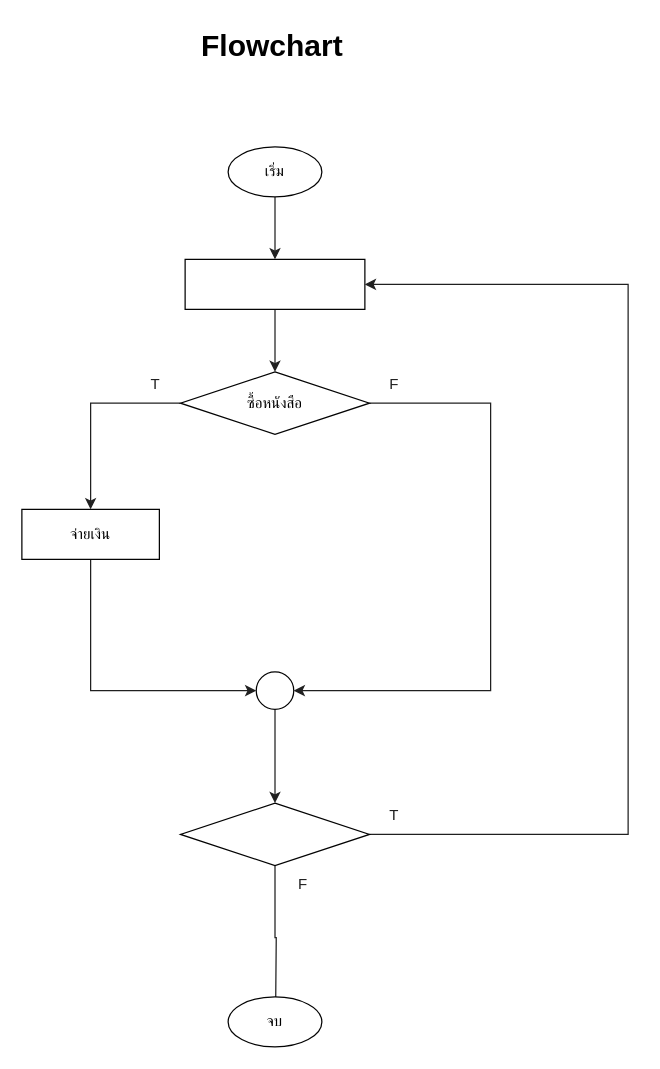
Image size: 660x1069. Some labels were removed from this diagram. Each missing label, with the box of its shape:
ซื้อหนังสือเพิ่ม: (179, 802, 370, 866)
เลือกหนังสือที่ต้องการ: (184, 258, 365, 309)
